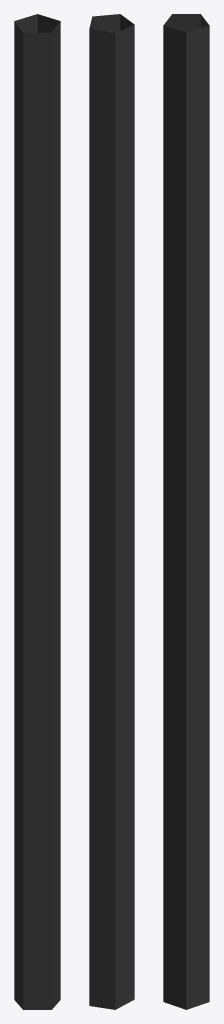
The model's file is SM_Prop_Detail_Wire_02.fbx.
3 renders of one model, left to right at view 1: azimuth 90°, elevation 25°; view 2: azimuth 210°, elevation 25°; view 3: azimuth 270°, elevation 25°, orthographic.
Parts seen in each view (by area): view 1: SM_Prop_Detail_Wire_02_LOD0; view 2: SM_Prop_Detail_Wire_02_LOD0; view 3: SM_Prop_Detail_Wire_02_LOD0.
Boxes of the visible parts, left/top/right/bottom form: SM_Prop_Detail_Wire_02_LOD0: left=14, top=14, right=60, bottom=1009; SM_Prop_Detail_Wire_02_LOD0: left=89, top=14, right=134, bottom=1009; SM_Prop_Detail_Wire_02_LOD0: left=163, top=14, right=209, bottom=1009.
Size of the model in its own units: 2.66 by 2.54 by 61.93.
Materials: 1 (1 with a texture image).
